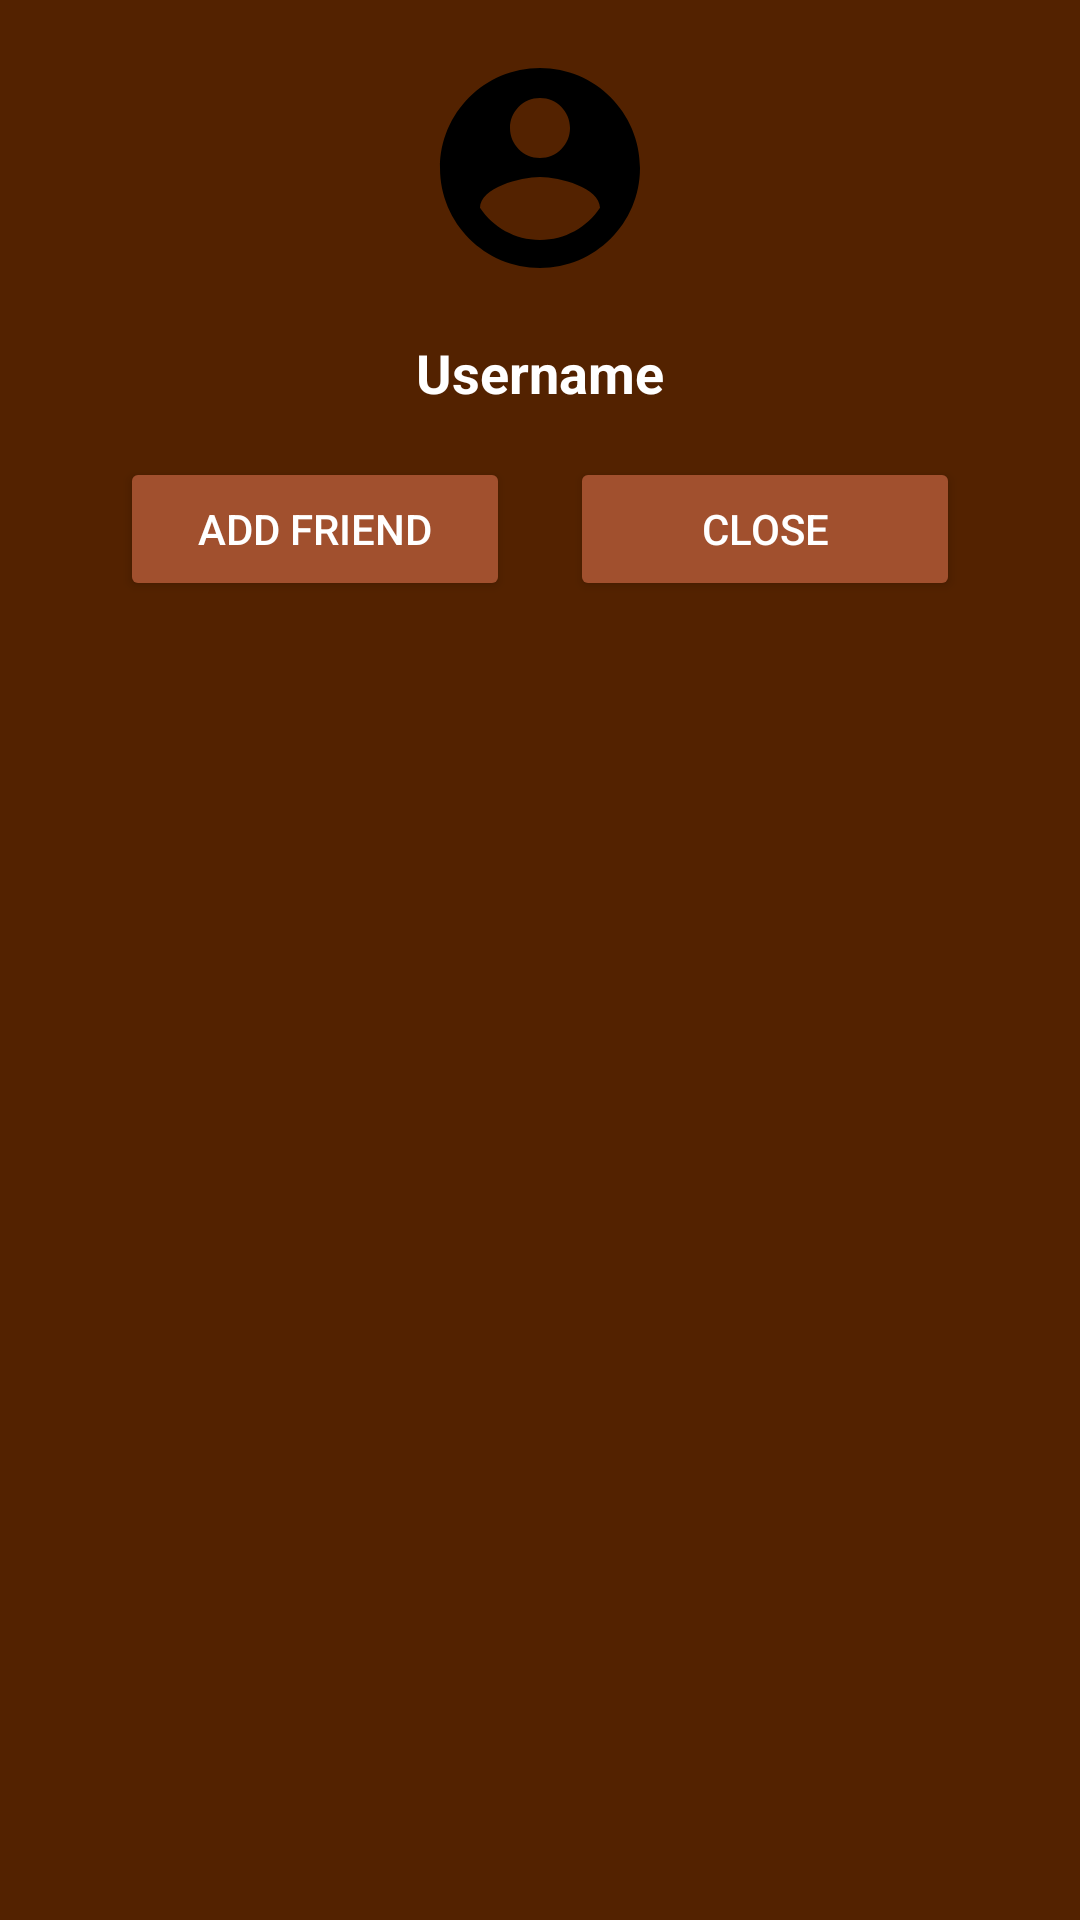

Named icons in this screenshot (1080 × 1920) and their centers, point (x, y):
profile: point (540, 168)
